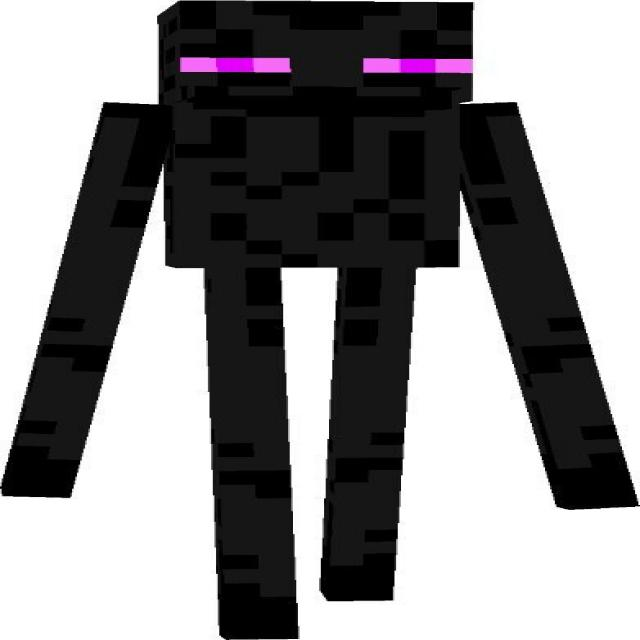Enderman: (2, 2, 631, 640)
